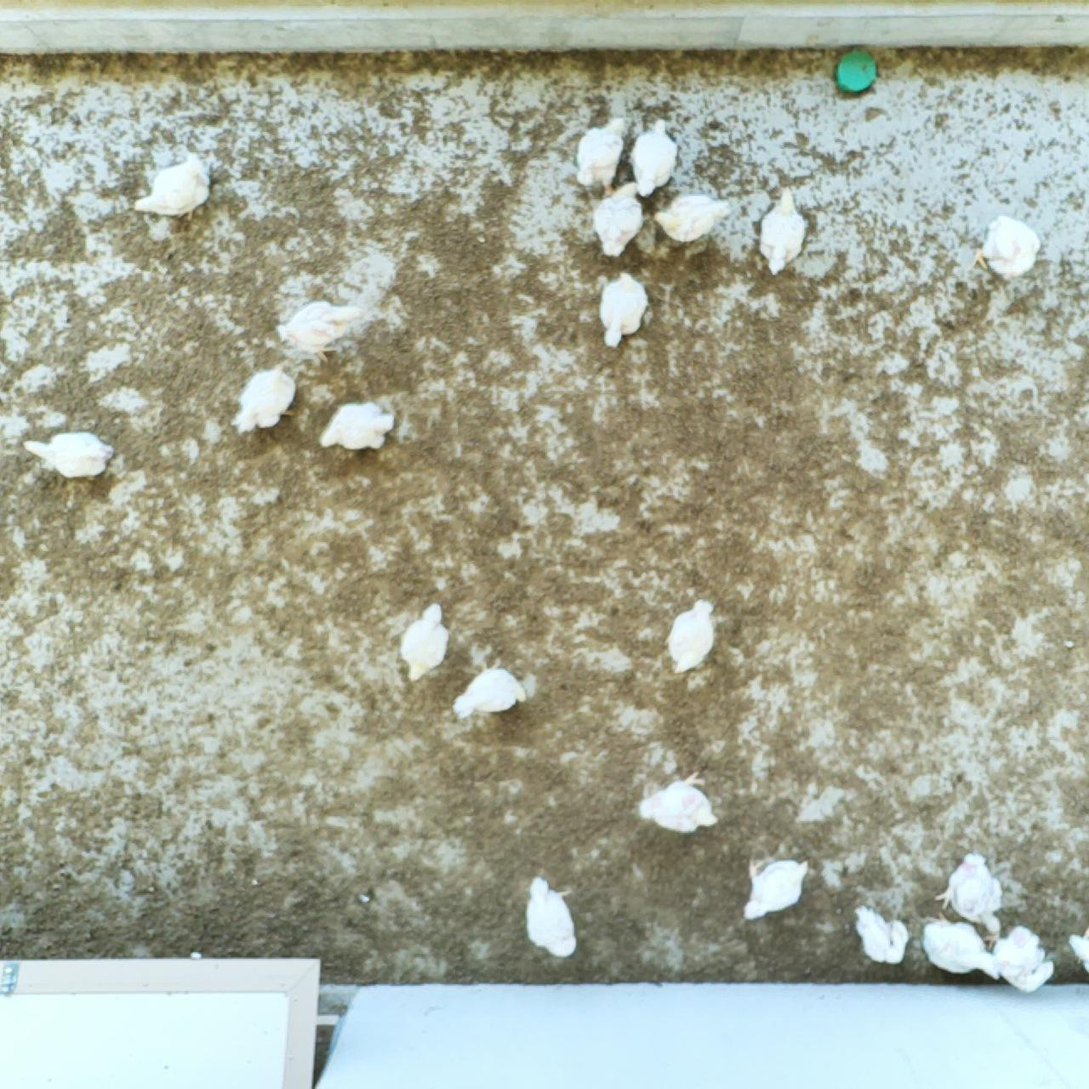chicken: (130, 151, 215, 222), (935, 848, 1003, 936), (279, 296, 369, 361), (637, 770, 720, 838), (229, 357, 302, 433), (988, 920, 1056, 996), (574, 113, 629, 204), (922, 912, 998, 977), (20, 428, 115, 480), (451, 659, 528, 722), (976, 211, 1044, 281), (743, 854, 812, 922), (522, 876, 579, 958), (397, 601, 452, 685), (758, 188, 808, 277), (598, 269, 652, 350), (665, 595, 719, 675), (316, 401, 398, 453), (654, 194, 733, 244), (851, 904, 914, 966), (629, 118, 678, 196), (594, 184, 642, 259), (1066, 924, 1089, 978)
